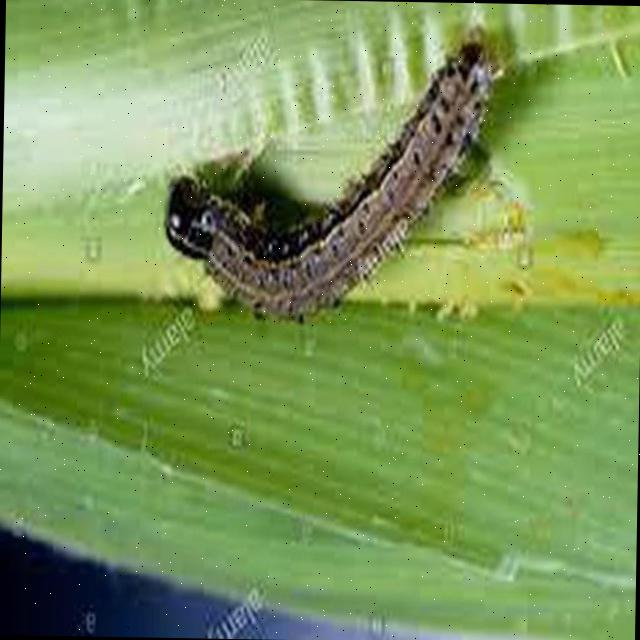worm: (163, 15, 509, 328)
